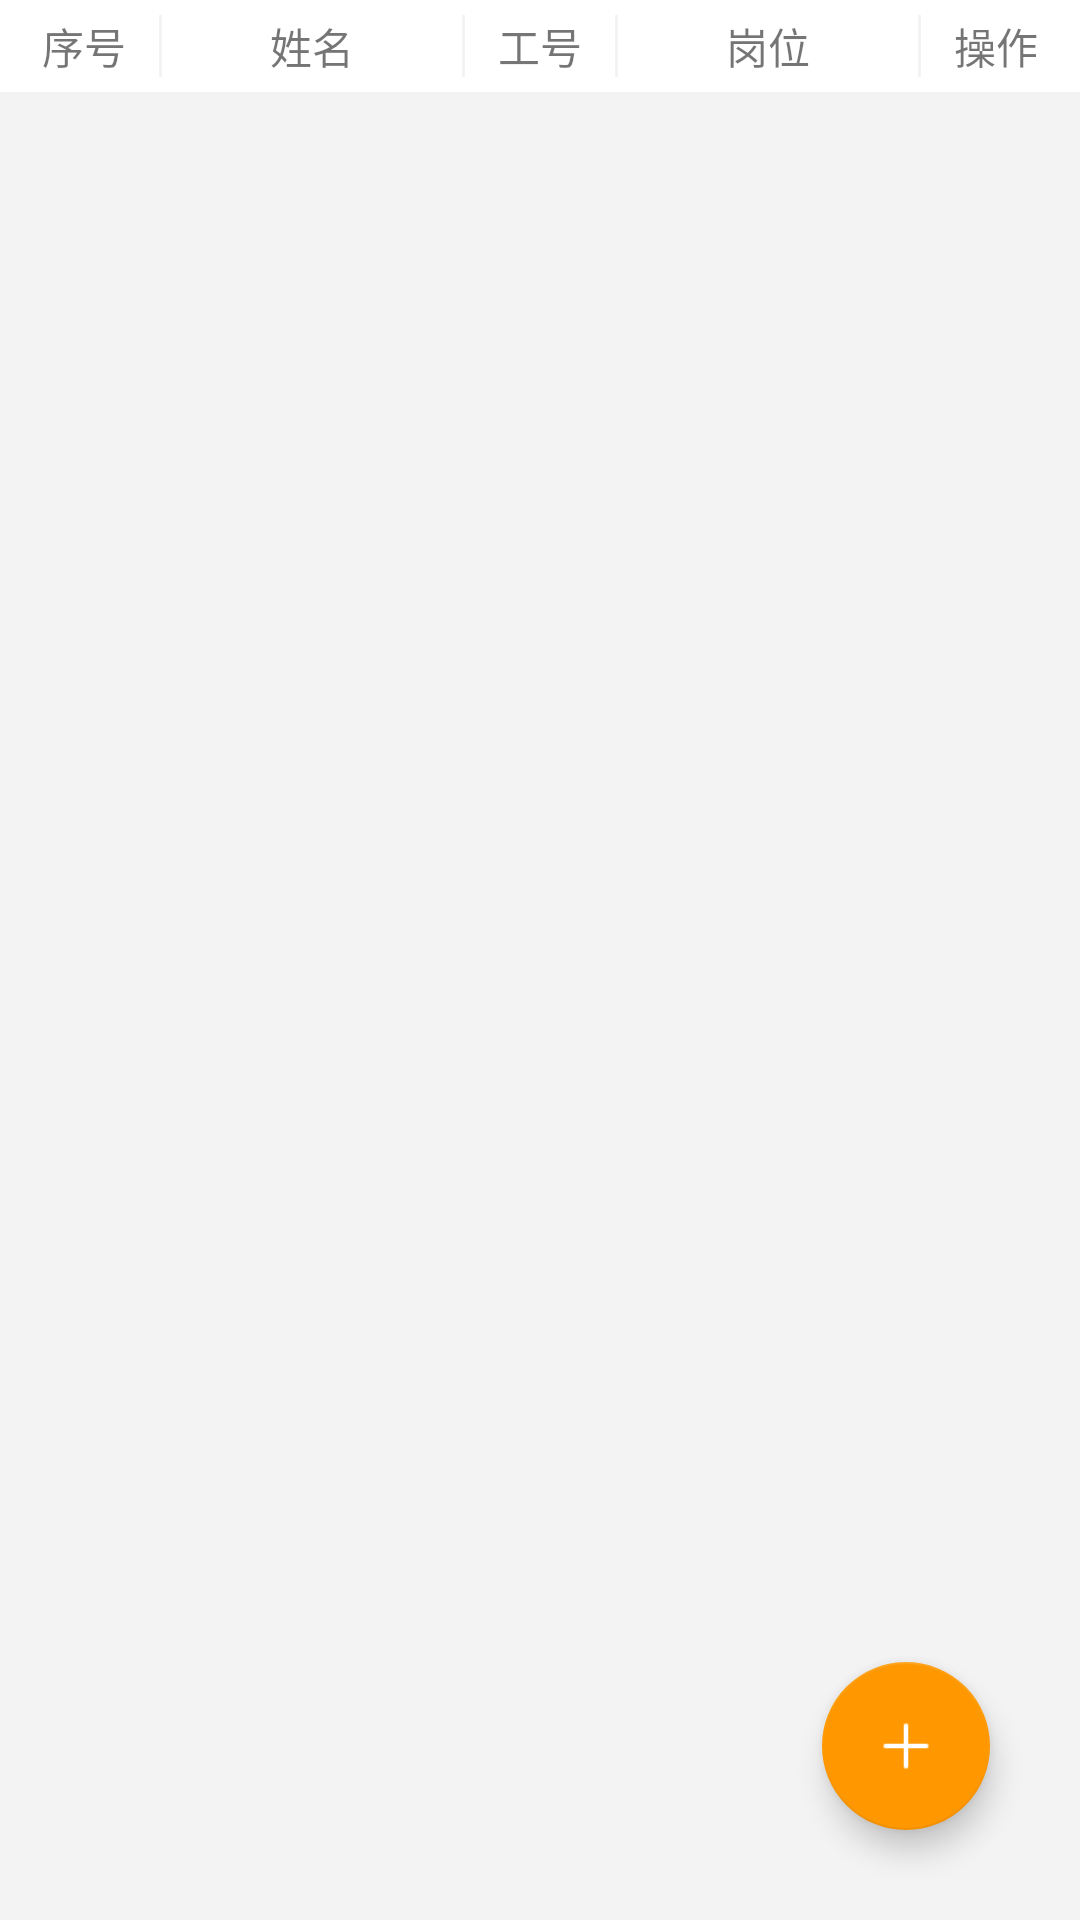

Icons on this 1080×1920 Android screen, each with its box as (x1, y1, x2, y2):
add: (822, 1662, 990, 1830)
